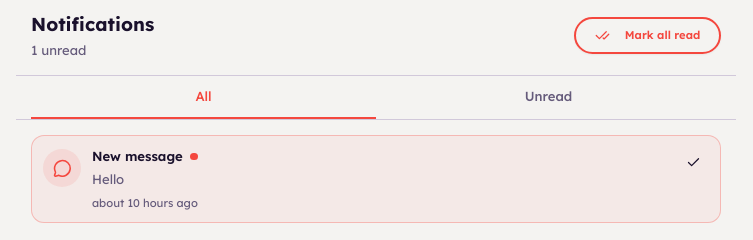
it: NotificationsPage › marks an unread notification read when opening its target
Click the text "New message" at coordinates (137, 157), box top-left (92, 147), bottom-right (183, 166)
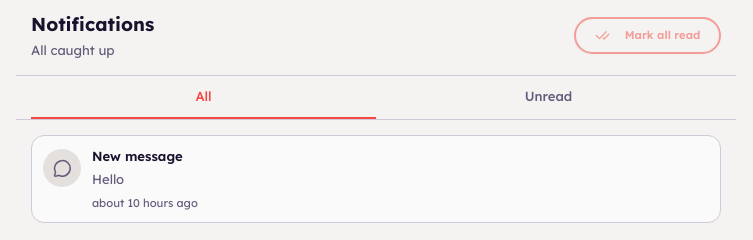
expect the text "All caught up" is shown: met, box top-left (31, 42), bottom-right (115, 58)
